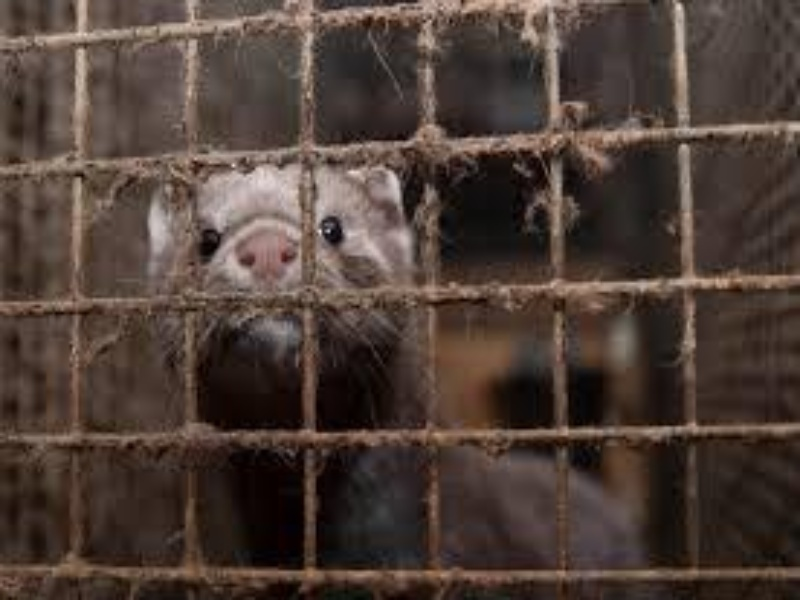minkish: (147, 162, 641, 592)
